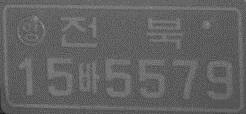1: (13, 57, 41, 96)
5: (46, 56, 74, 97), (138, 58, 166, 99), (105, 57, 132, 99)
7: (171, 58, 198, 101)
9: (206, 60, 235, 100)
바: (76, 60, 99, 94)
영: (16, 15, 46, 46)
전북_D: (60, 14, 183, 49)
